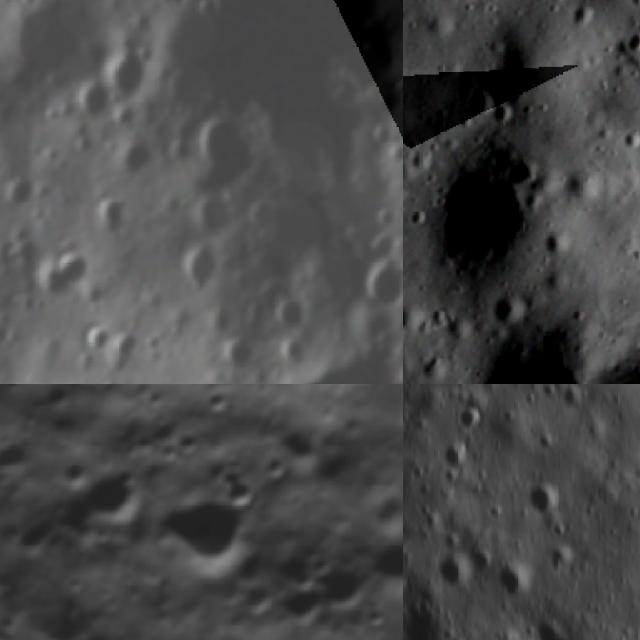crater: (409, 133, 573, 305), (410, 304, 598, 384), (153, 474, 260, 582), (78, 460, 144, 526), (194, 116, 256, 183), (41, 238, 98, 307), (349, 245, 403, 316), (274, 578, 334, 638), (484, 59, 542, 116), (312, 555, 369, 611), (100, 46, 151, 108), (482, 284, 537, 338), (363, 524, 403, 598), (0, 428, 45, 491), (105, 136, 159, 180), (64, 81, 112, 130), (191, 194, 239, 240), (534, 223, 582, 268), (457, 79, 502, 127), (210, 334, 260, 376), (183, 247, 224, 298), (489, 564, 536, 608), (356, 595, 400, 639), (403, 142, 445, 186), (234, 576, 276, 618), (435, 552, 481, 590), (36, 384, 82, 421), (92, 196, 130, 240), (270, 292, 309, 334), (407, 347, 451, 384), (480, 99, 520, 139), (276, 334, 314, 372), (4, 176, 40, 216), (107, 328, 143, 365), (74, 326, 113, 360), (362, 233, 400, 267), (514, 482, 552, 516), (256, 449, 291, 485), (160, 136, 193, 172), (403, 200, 436, 236), (153, 434, 187, 468), (58, 456, 92, 490), (0, 560, 20, 617), (90, 519, 122, 552), (174, 424, 206, 456), (200, 384, 233, 415), (615, 122, 640, 160), (138, 384, 169, 414), (618, 24, 640, 64), (64, 568, 91, 595), (368, 126, 396, 151), (629, 149, 640, 206), (385, 141, 403, 172), (164, 0, 201, 11)
